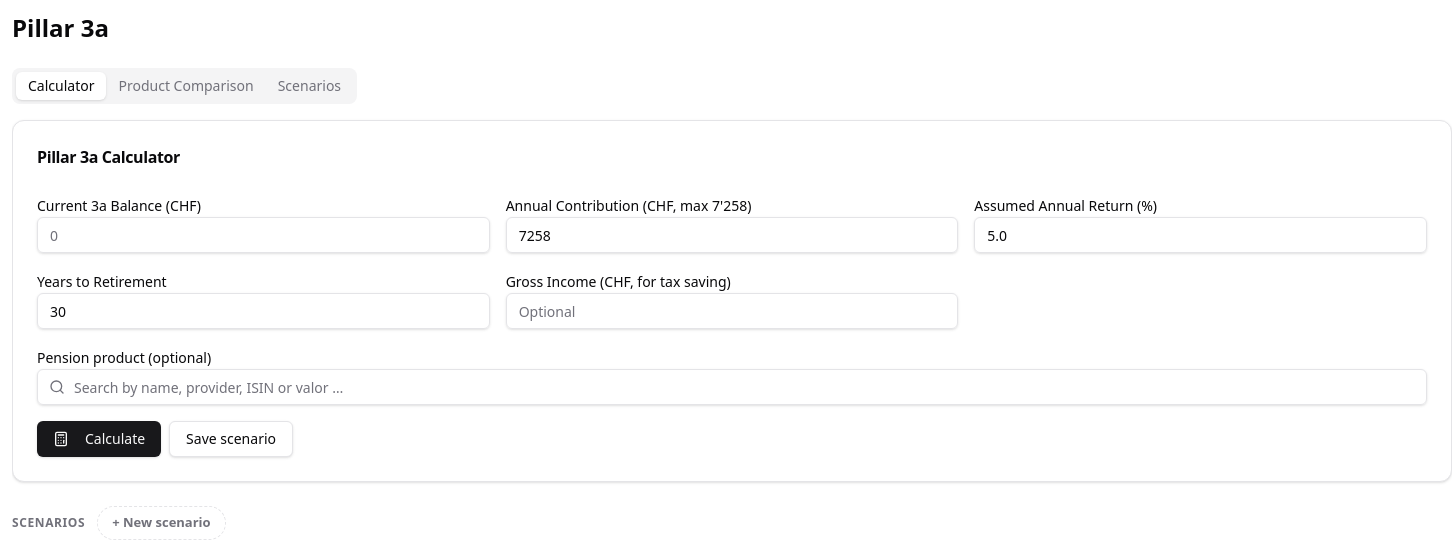
Scenario: Pillar3Page › switches to the scenarios tab
Click the tab "Scenarios": (309, 86) x1=266 y1=72 x2=353 y2=100
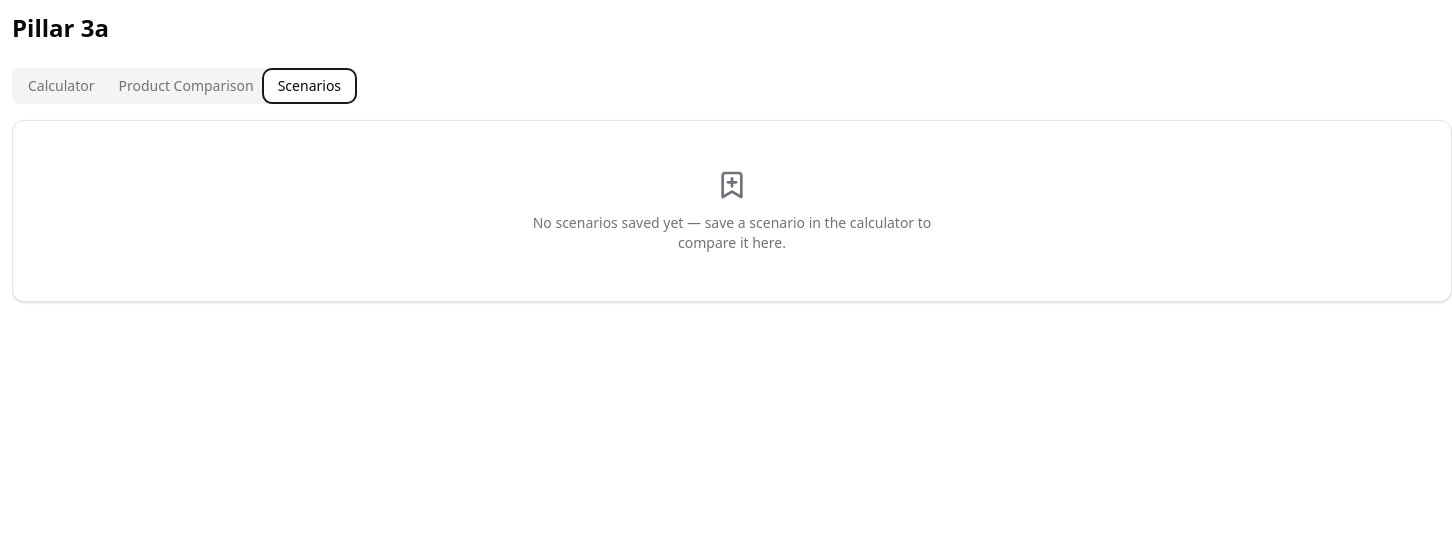
Result: the text "No scenarios saved yet" is shown at x1=533 y1=213 x2=931 y2=252
